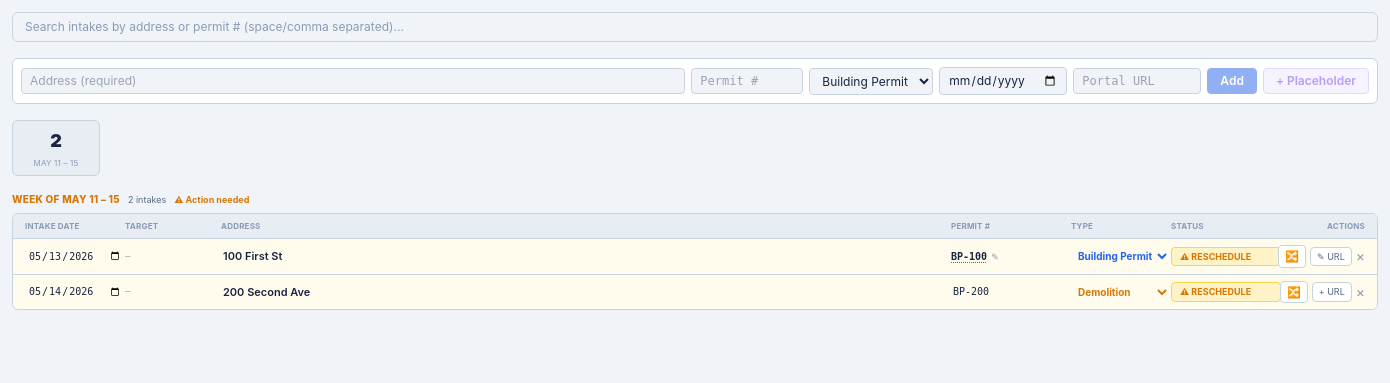
Test case: <IntakeTracker /> Q6.3.c editor › Swap flow: clicking the same row twice cancels selection without firing
Click the button with test id "intake-swap-1" at point(1292, 256), box [1278,245,1306,268]
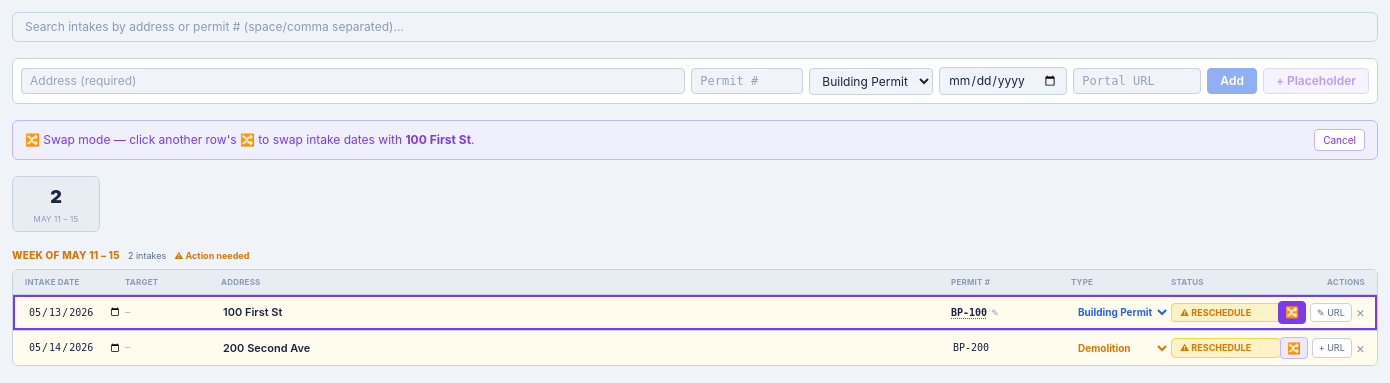
Click the button with test id "intake-swap-1" at point(1292, 312), box [1278,301,1306,324]
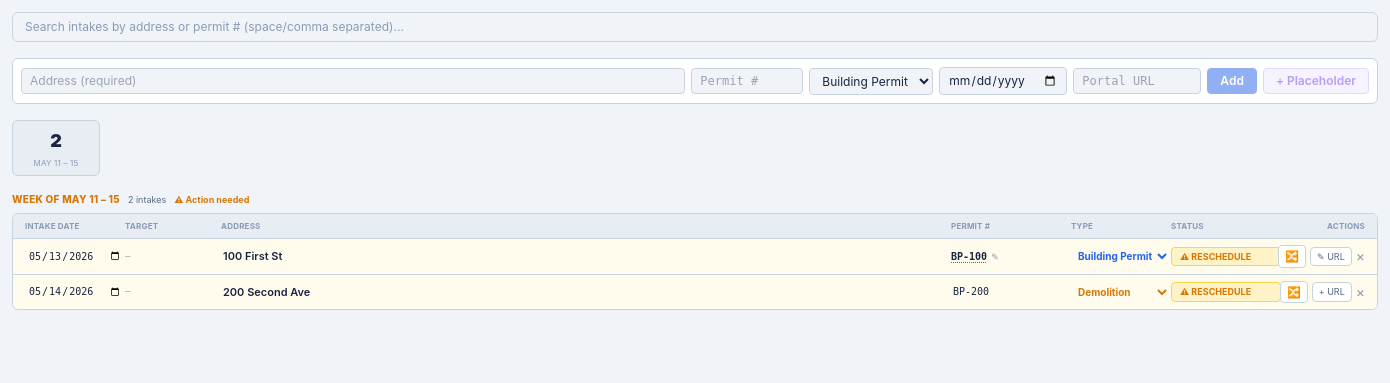
Now the element with test id "intake-swap-pending" is gone
